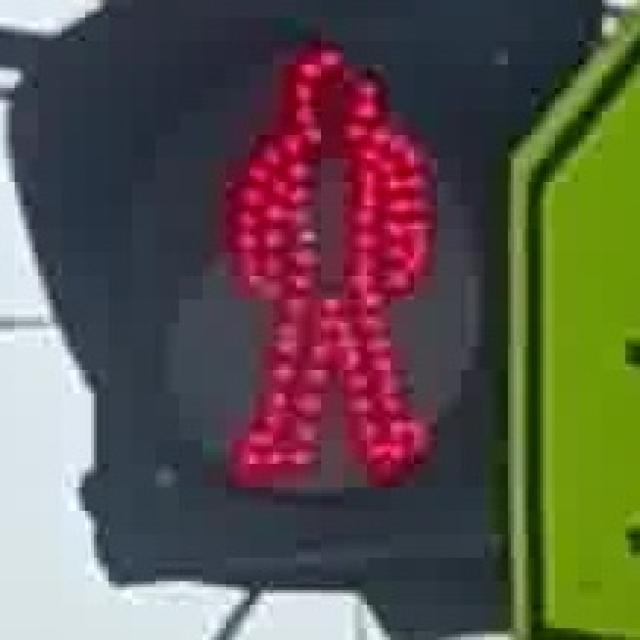red-crossing: (176, 18, 458, 510)
